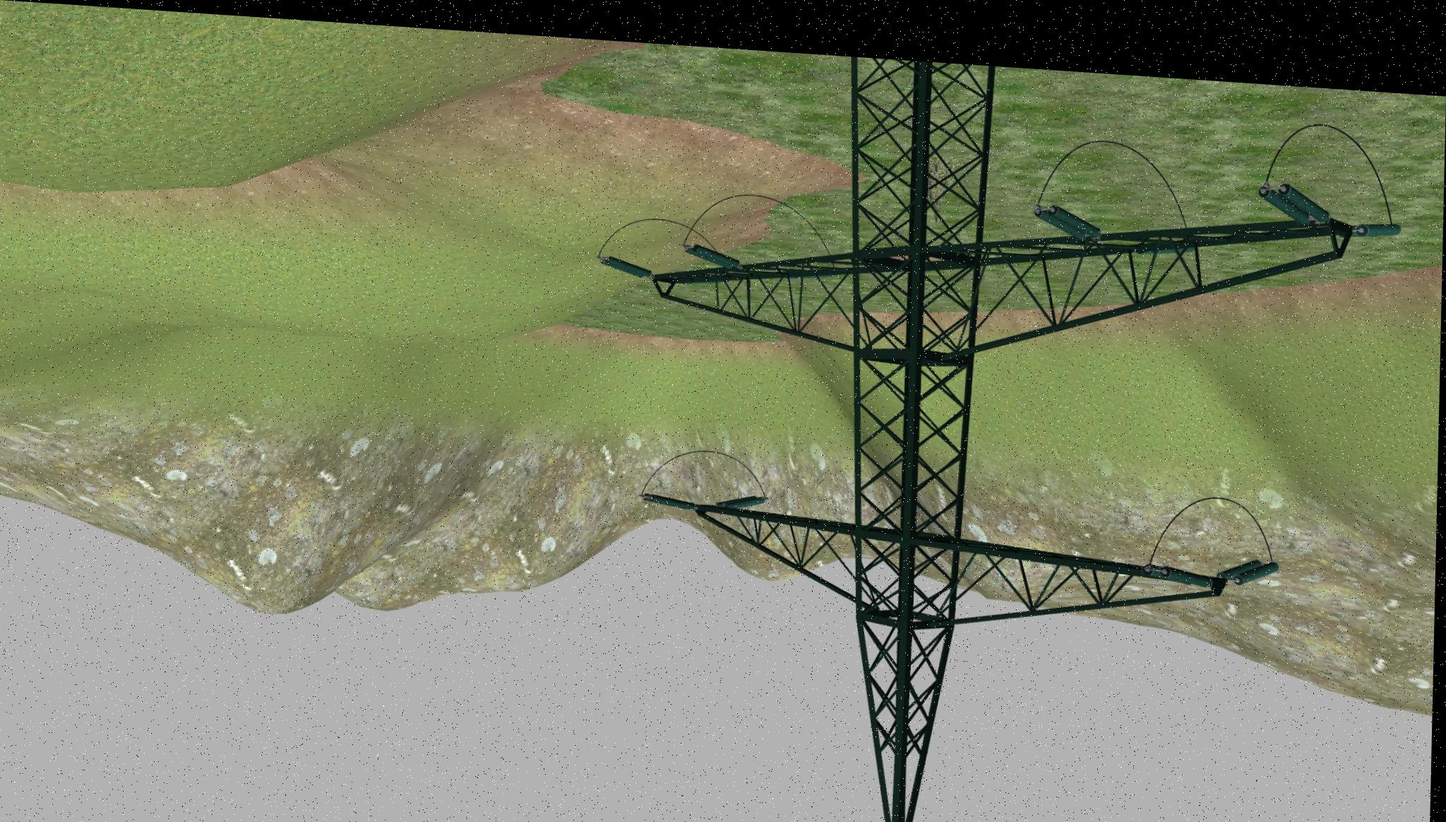tower: (665, 46, 1346, 822)
